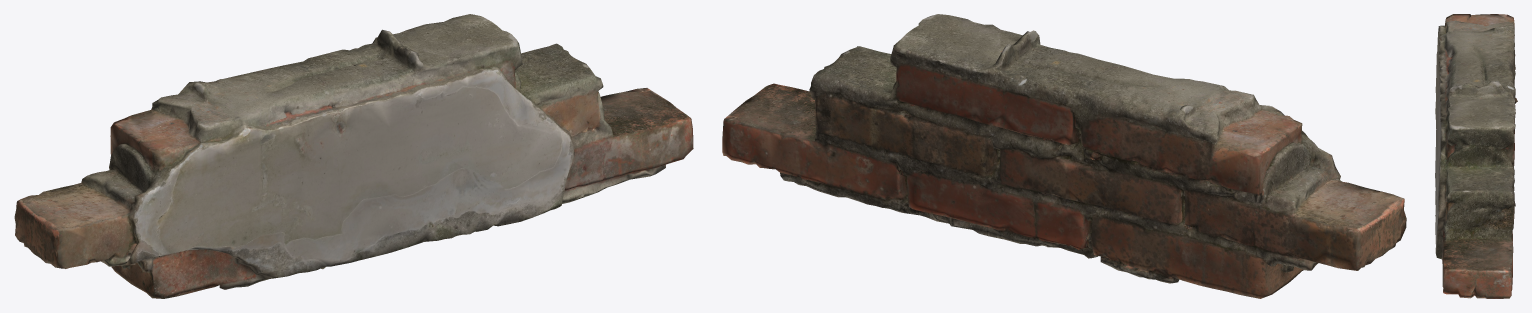
The model's file is PX_Brick_Ruins_10_LOD3.fbx.
3 views of the same model, side by side, from view 1: azimuth 30°, elevation 25°; view 2: azimuth 150°, elevation 25°; view 3: azimuth 270°, elevation 25° (orthographic). The views are drawn at different scales.
Parts seen in each view (by area): view 1: PX_Brick_Ruins_10_LOD3; view 2: PX_Brick_Ruins_10_LOD3; view 3: PX_Brick_Ruins_10_LOD3.
Boxes of the visible parts, x1,y1,x2,y2 form: PX_Brick_Ruins_10_LOD3: (14, 14, 693, 298); PX_Brick_Ruins_10_LOD3: (722, 14, 1406, 298); PX_Brick_Ruins_10_LOD3: (1435, 14, 1517, 298).
Bounding box in the file's own units: 89.72 × 25.63 × 14.02.
